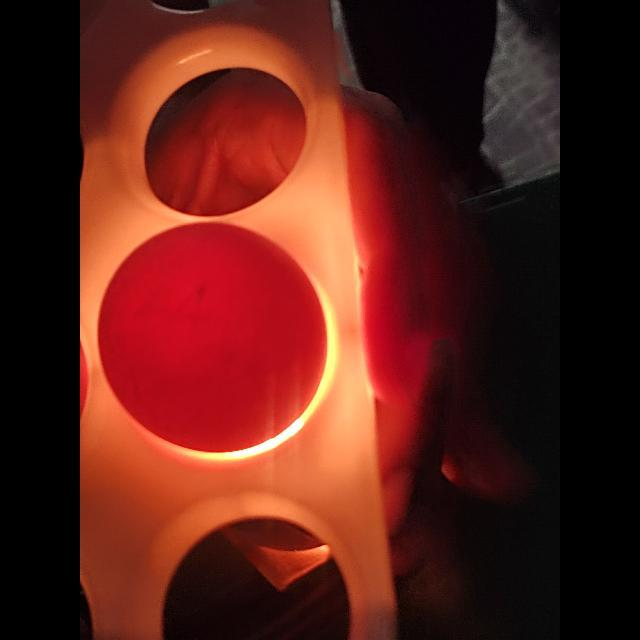Infertile: (100, 216, 328, 454)
